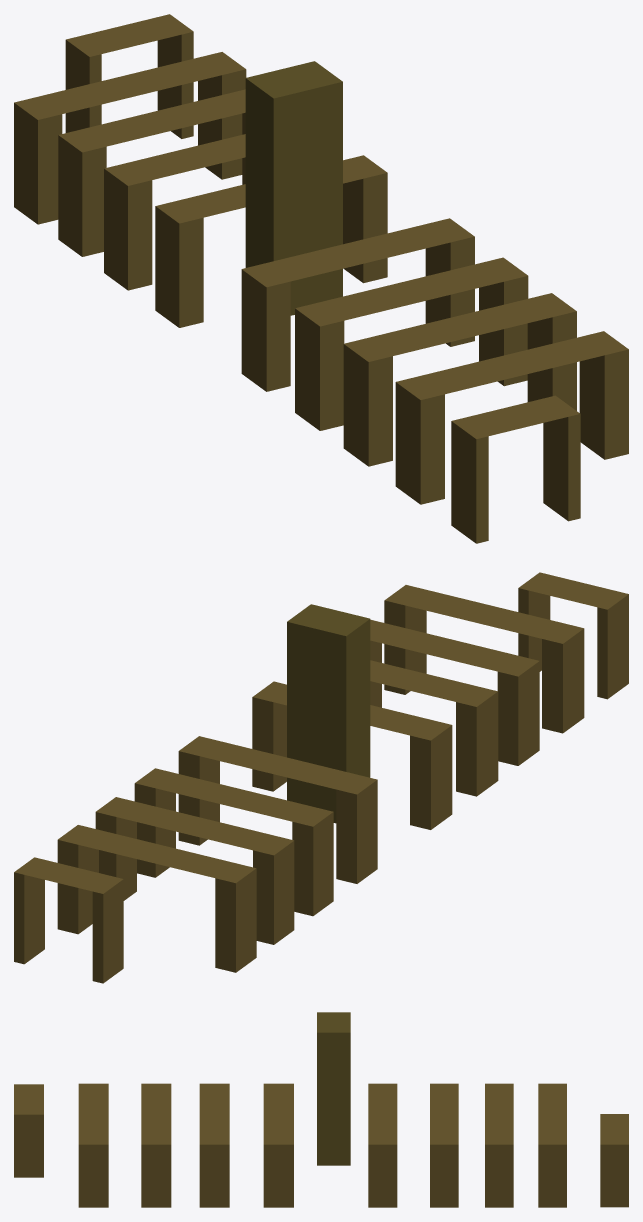
File: open-top-tram-interior.dae
The picture shows the model from 3 angles, top to bottom: view 1: azimuth 30°, elevation 25°; view 2: azimuth 150°, elevation 25°; view 3: azimuth 270°, elevation 25°; orthographic projection. The views are drawn at different scales.
Visible parts, largest first — view 1: Cube_006 (×2), Cube_006_001, Cube_008, Cube_007, Cube_011_002, Cube_013, Cube_004, Cube_011_001, Cube_011, Cube_010; view 2: Cube_006 (×2), Cube_011_002, Cube_006_001, Cube_013, Cube_011, Cube_011_001, Cube_008, Cube_010, Cube_007, Cube_004; view 3: Cube_006 (×2), Cube_007, Cube_008, Cube_006_001, Cube_013, Cube_011, Cube_011_001, Cube_011_002, Cube_004, Cube_010.
Part boxes in pixels (x1,y1,x2,y2): Cube_006 (×2): [245, 61, 576, 466]; Cube_006_001: [395, 331, 628, 504]; Cube_008: [241, 218, 474, 391]; Cube_007: [295, 257, 528, 430]; Cube_011_002: [14, 52, 246, 224]; Cube_013: [155, 155, 387, 327]; Cube_004: [451, 395, 580, 543]; Cube_011_001: [58, 89, 245, 256]; Cube_011: [104, 134, 245, 290]; Cube_010: [65, 14, 193, 138]; Cube_006 (×2): [287, 604, 539, 823]; Cube_011_002: [57, 825, 256, 972]; Cube_006_001: [384, 585, 584, 733]; Cube_013: [178, 736, 377, 883]; Cube_011: [134, 768, 333, 916]; Cube_011_001: [95, 797, 294, 944]; Cube_008: [252, 681, 452, 829]; Cube_010: [14, 857, 123, 983]; Cube_007: [370, 660, 498, 796]; Cube_004: [518, 572, 628, 699]; Cube_006 (×2): [141, 1012, 350, 1207]; Cube_007: [199, 1083, 229, 1207]; Cube_008: [263, 1083, 293, 1207]; Cube_006_001: [78, 1083, 108, 1207]; Cube_013: [368, 1083, 397, 1207]; Cube_011: [430, 1083, 458, 1207]; Cube_011_001: [485, 1083, 513, 1207]; Cube_011_002: [538, 1083, 566, 1207]; Cube_004: [14, 1084, 43, 1177]; Cube_010: [600, 1114, 628, 1207].
Bounding box in the file's own units: 1.01 × 4.29 × 1.15.
